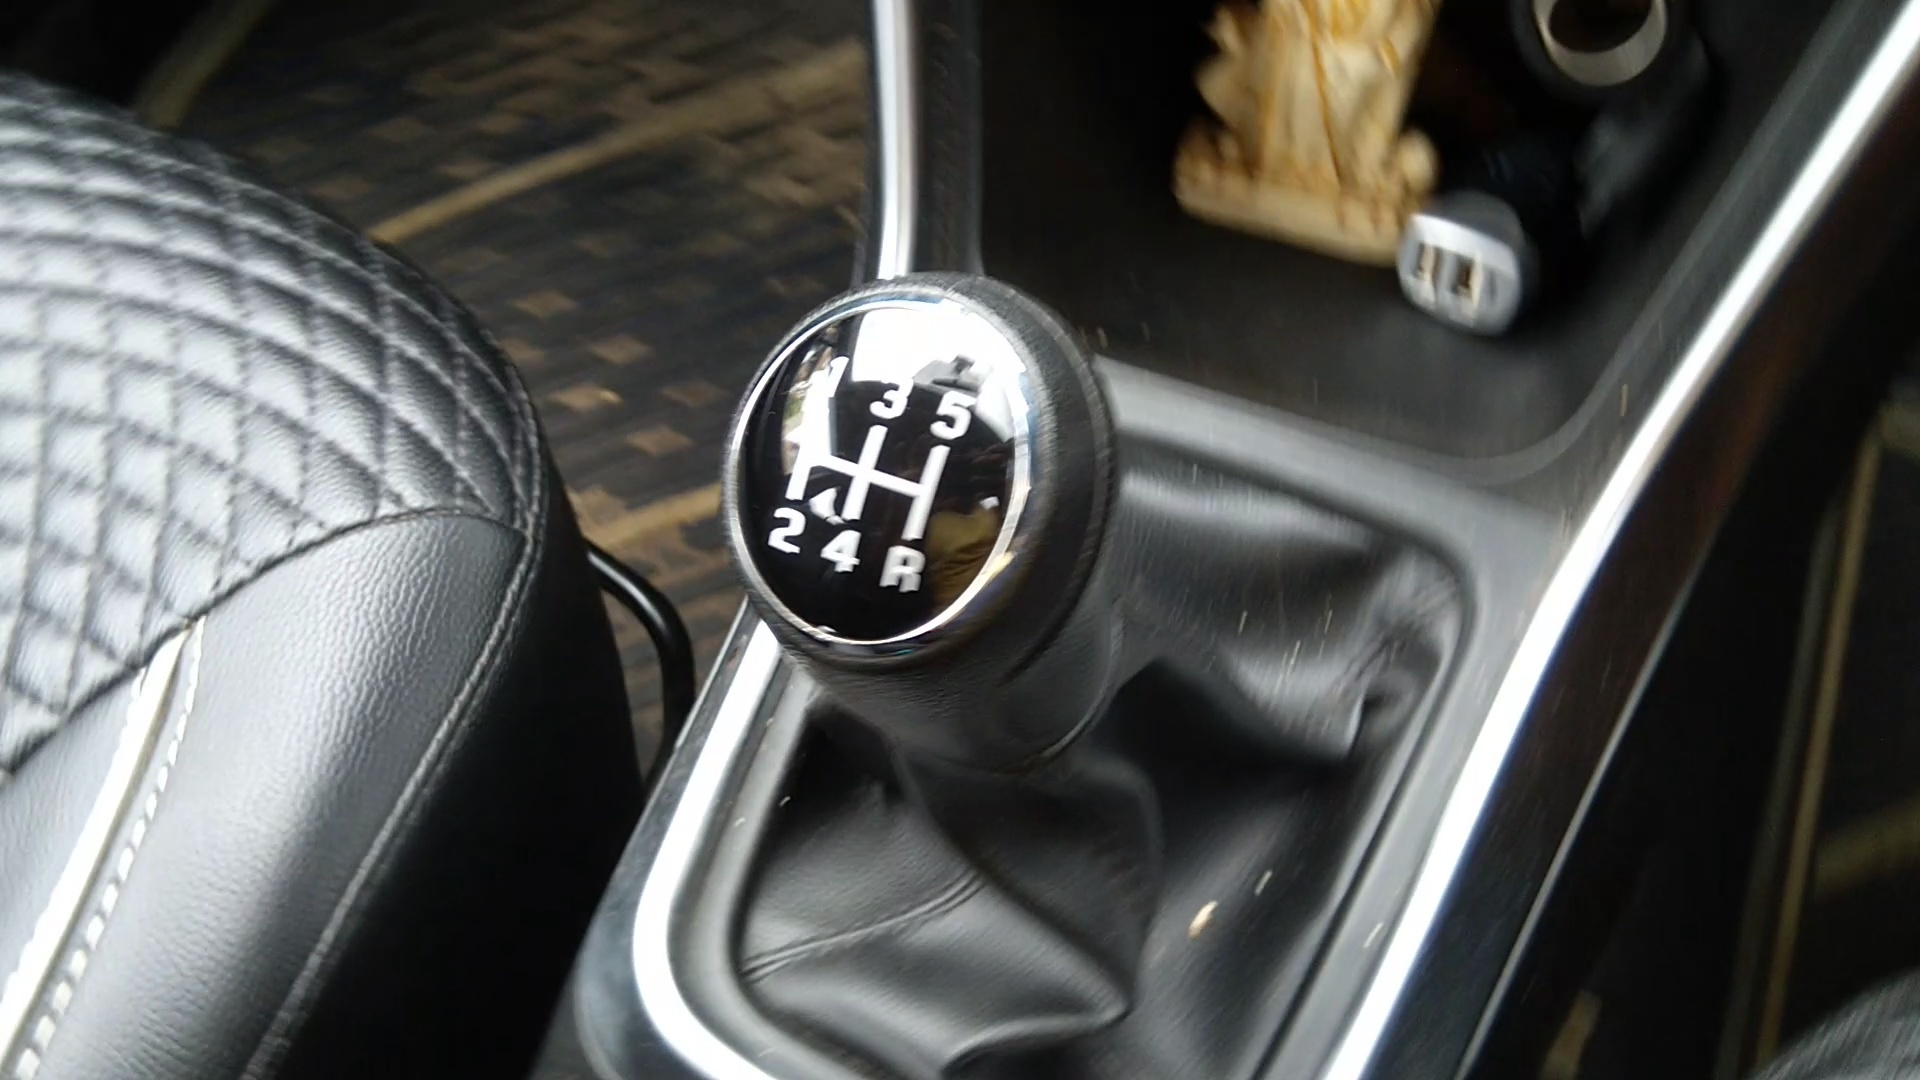manual_gear: (724, 277, 1129, 800)
